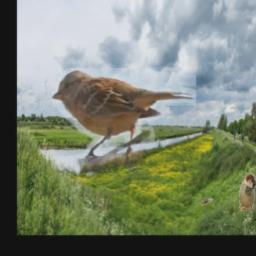Sparrow: (51, 68, 195, 179), (238, 174, 256, 213)
